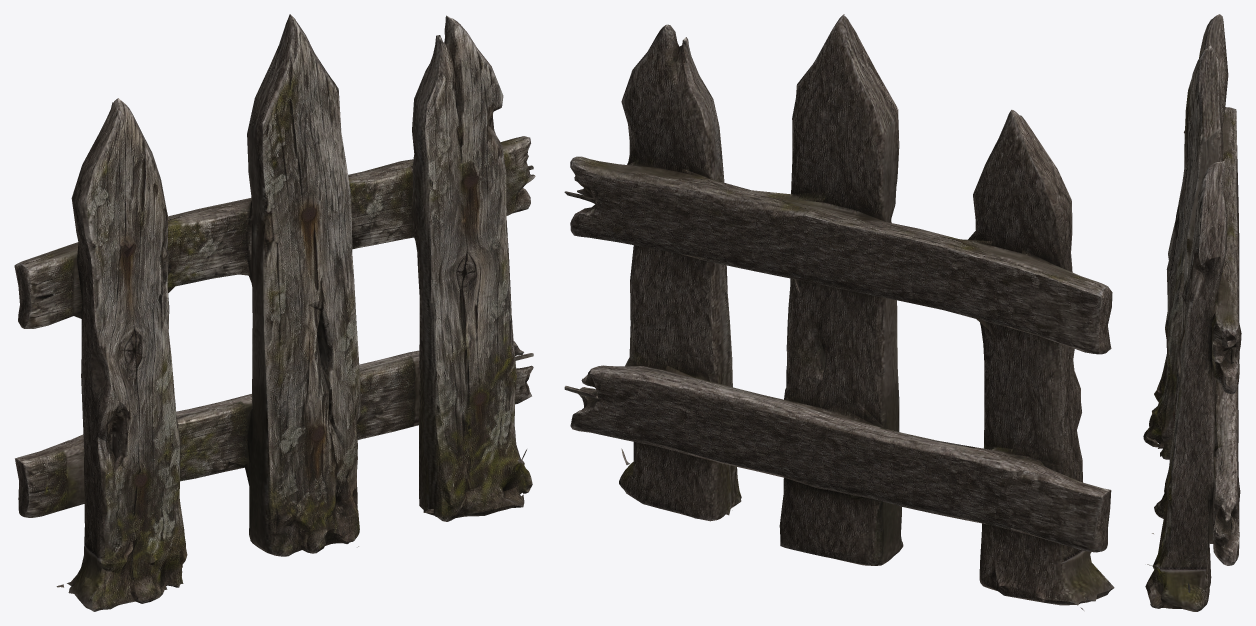
3 views of the same model, side by side, from view 1: azimuth 30°, elevation 25°; view 2: azimuth 150°, elevation 25°; view 3: azimuth 270°, elevation 25° (orthographic). The views are drawn at different scales.
Bounding box in the file's own units: 1.9 × 1.83 × 0.3422.
Materials: 1 (1 with a texture image).
